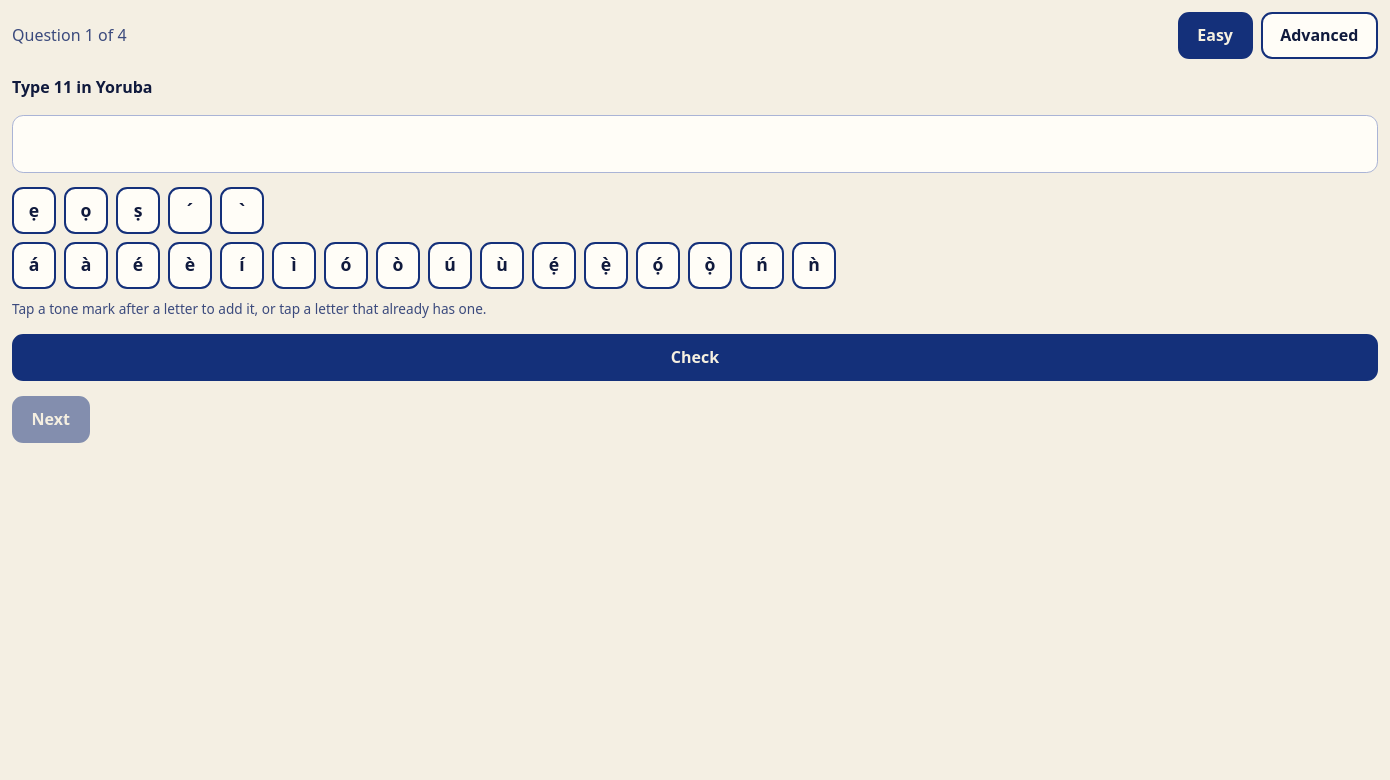
Test: NumbersPractice › marks a wrong answer and shows the model answer
Type "ogún" into the field with test id "numbers-input".
click(695, 144); type("ogún")  # box [12,115,1378,173]
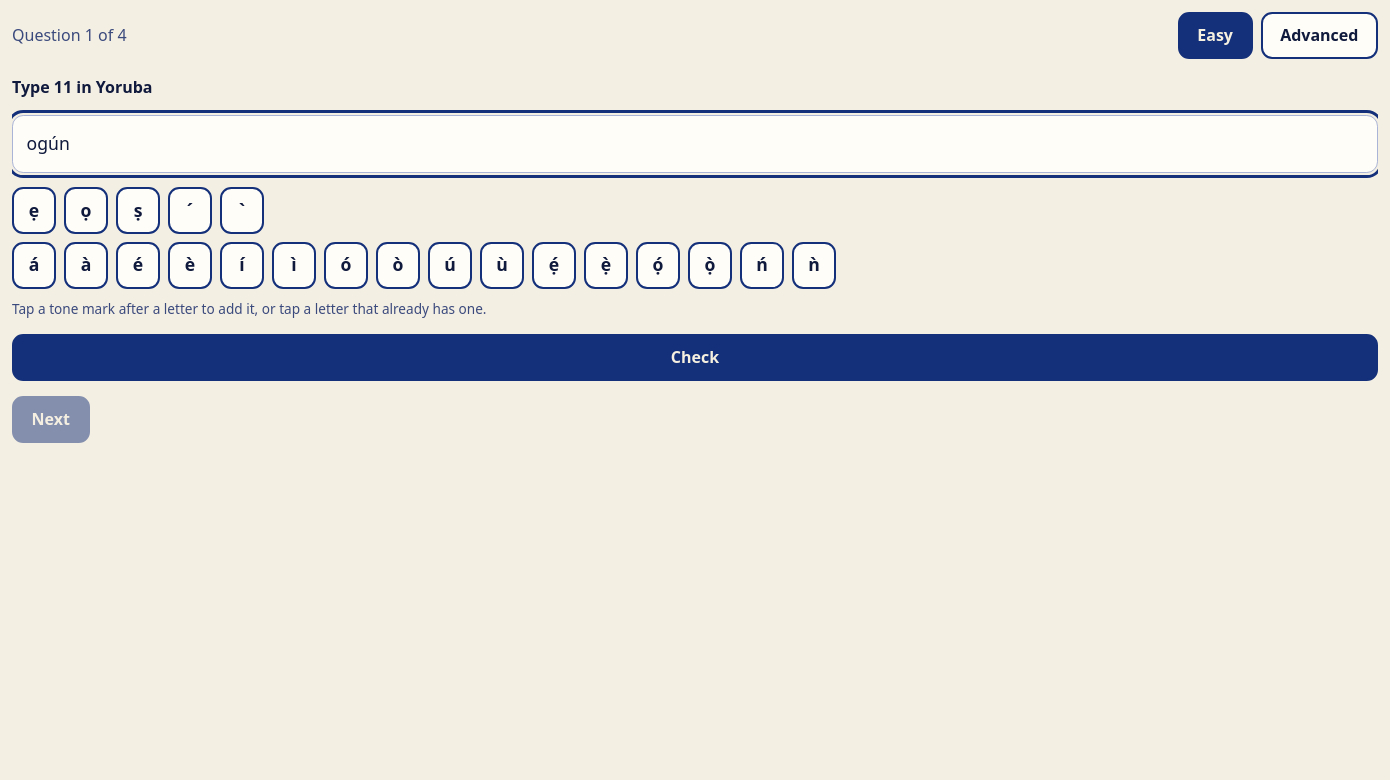
Click the button "Check".
click(695, 358)  # box [12,334,1378,381]
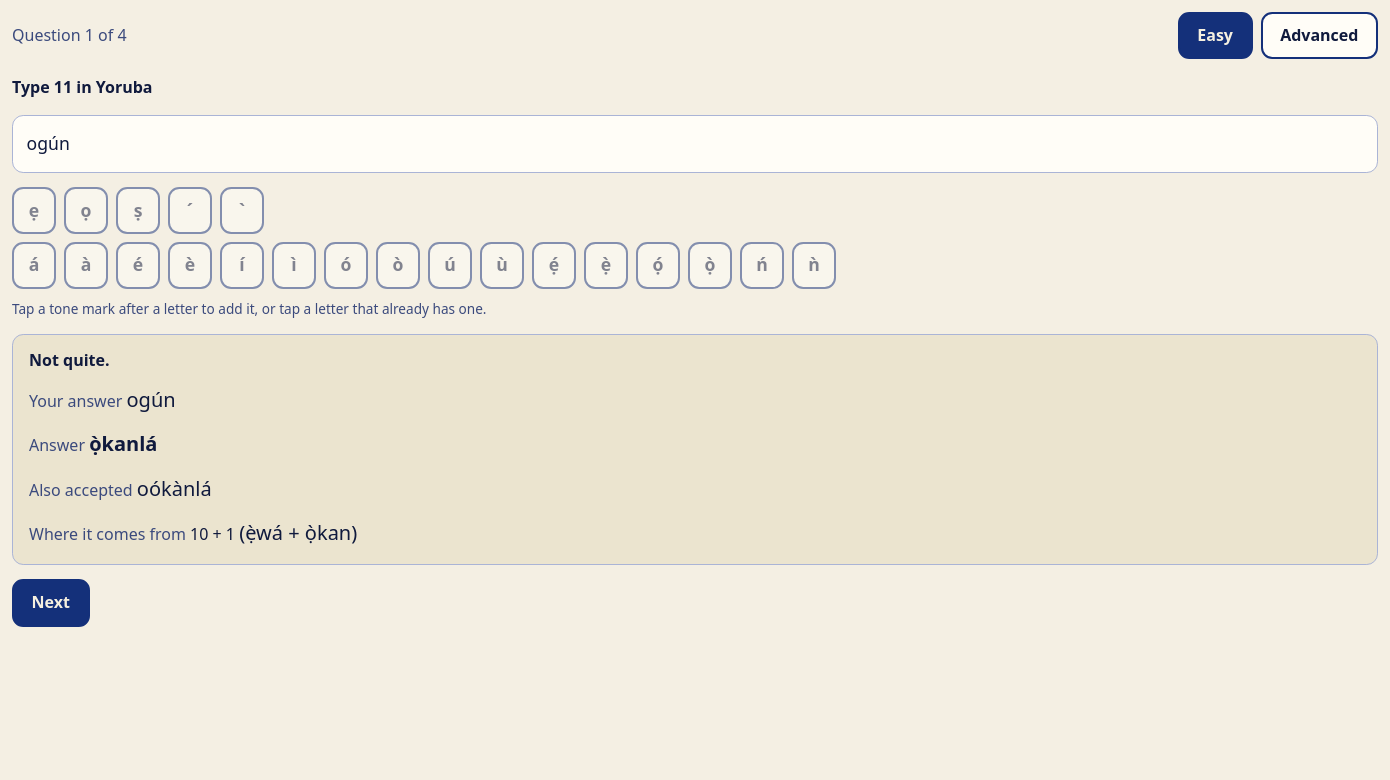
Result: the message with test id "numbers-result" shows "Not quite." at [29,349,110,371]
Result: the message with test id "numbers-result" shows "ọ̀kanlá" at [89,430,157,457]
